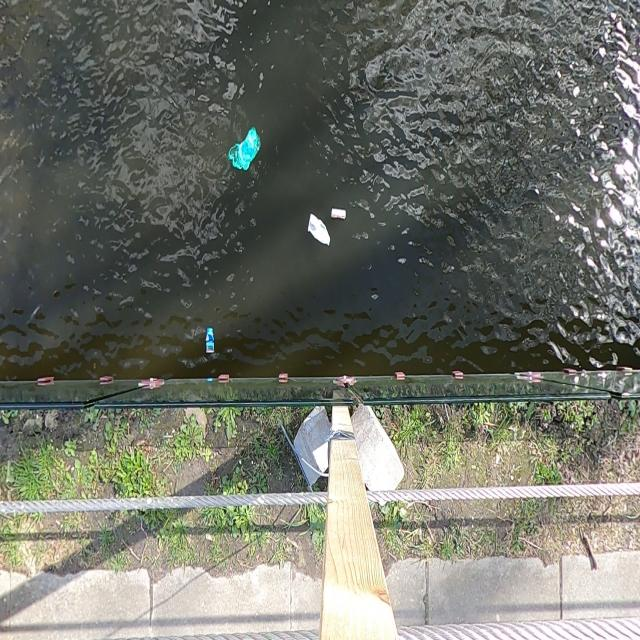Non plastique: (202, 324, 218, 357), (329, 202, 352, 223)
Sac plastique: (226, 123, 264, 174), (305, 212, 334, 249)
